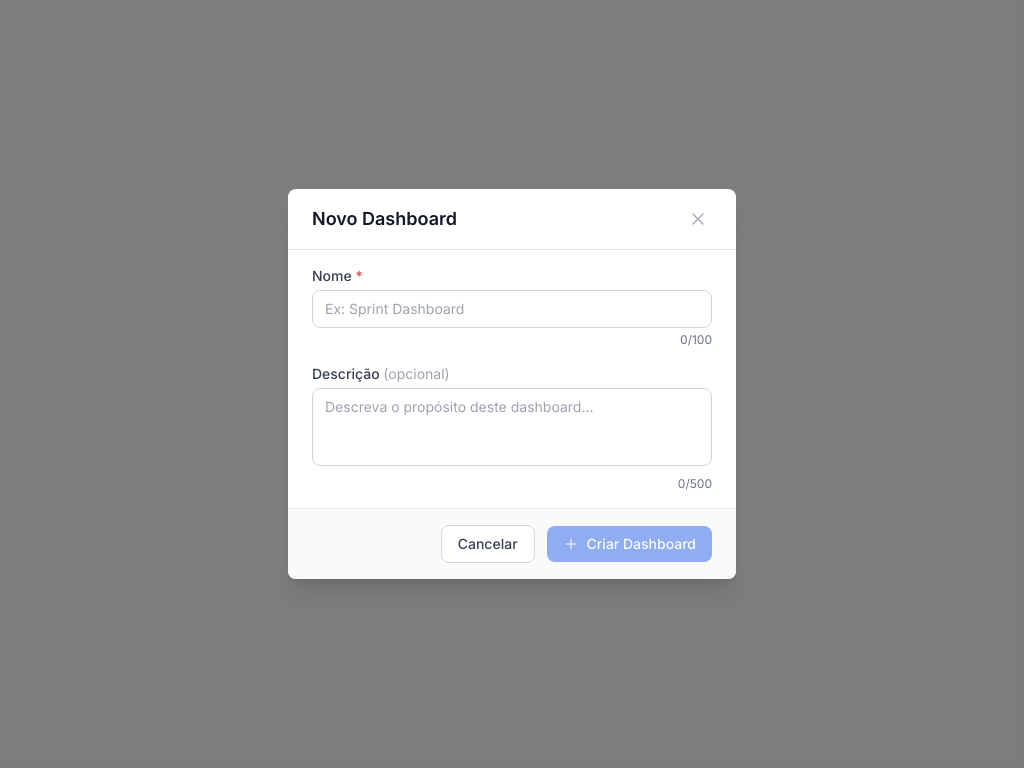
Scenario: CreateDashboardModal › Form Validation › should show character count for name
The image size is (1024, 768).
Type "Test" into the field labelled "Nome *" at (512, 309), box [312, 290, 712, 328]
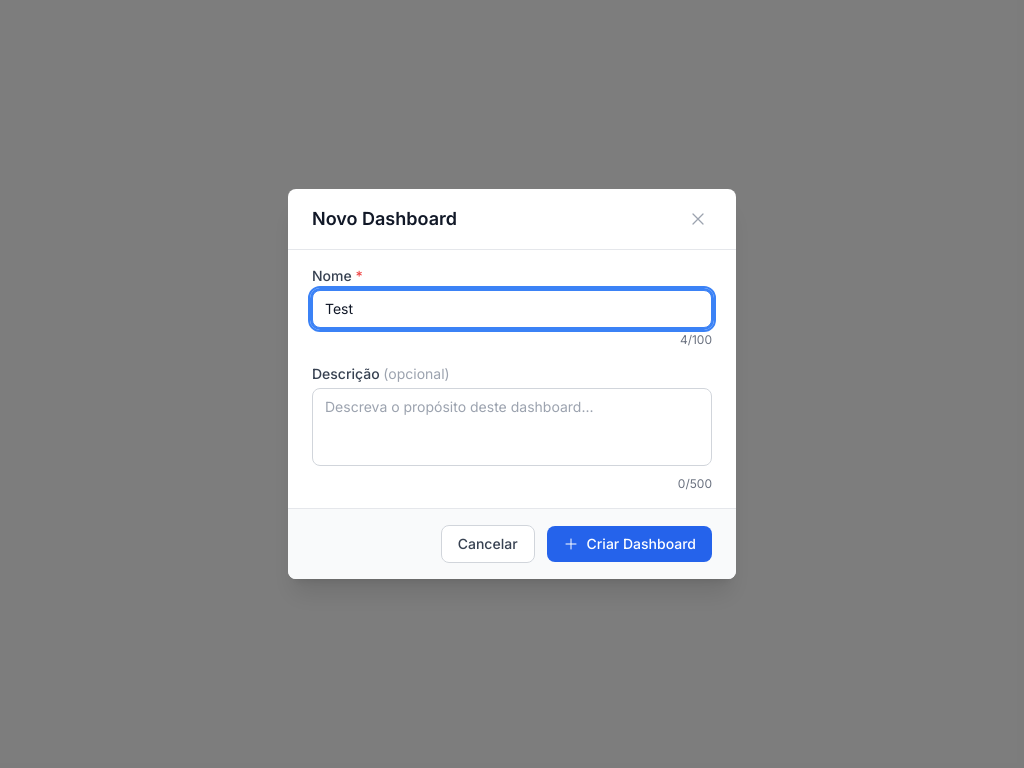
Result: the text "4/100" is shown at [680, 332, 712, 347]
